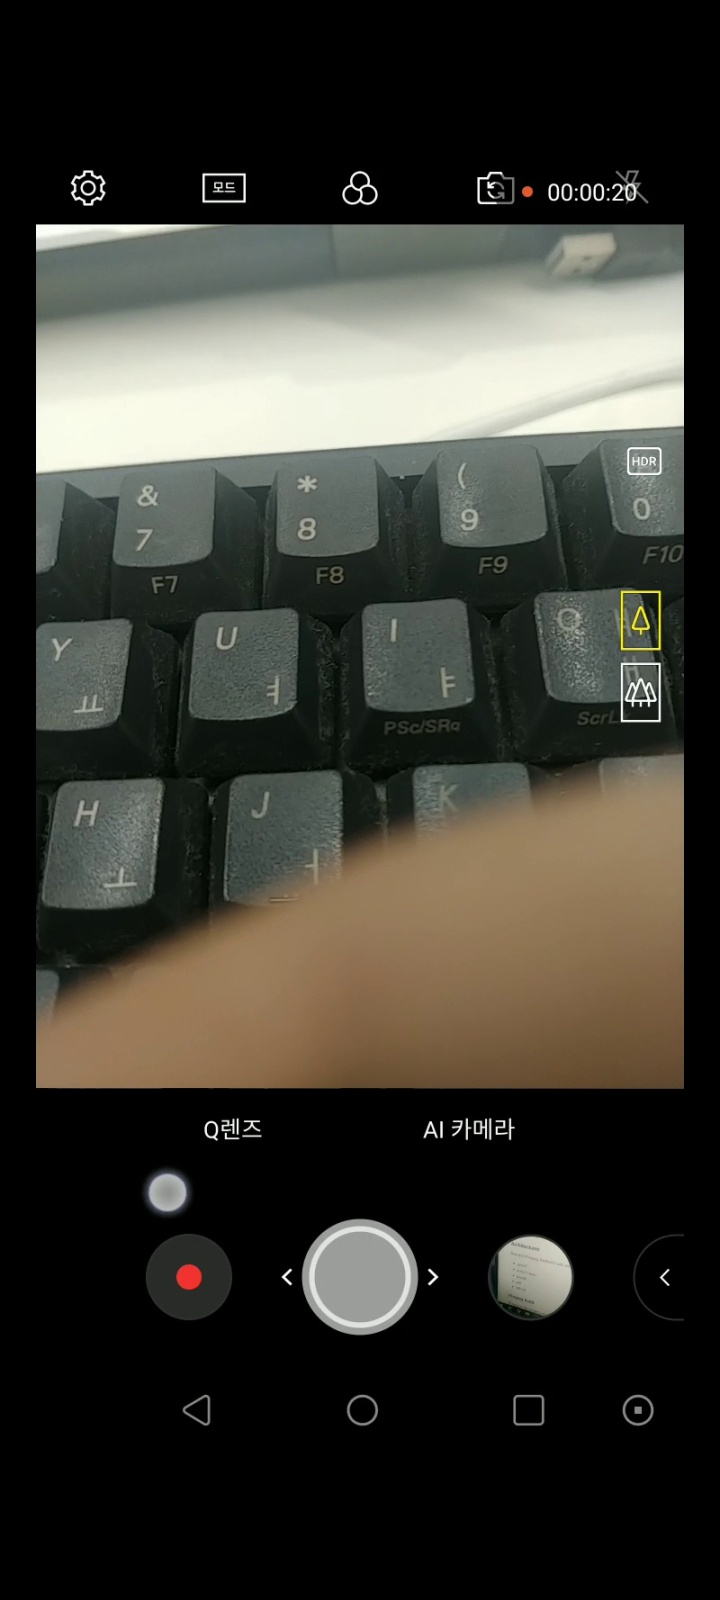Cursor: (146, 1169, 191, 1214)
